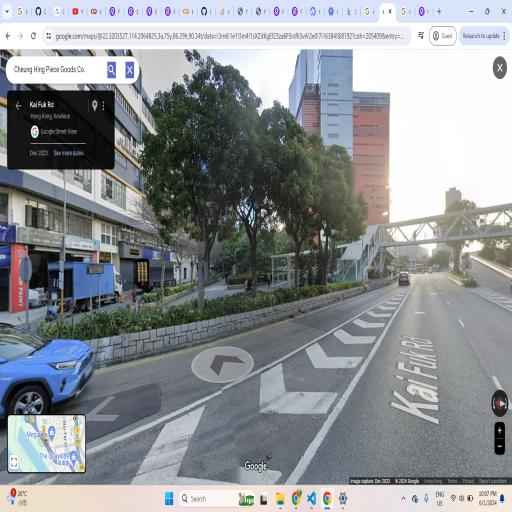Roads: (105, 262, 509, 475)
Trees: (152, 64, 251, 320), (225, 86, 296, 301), (283, 104, 344, 290)
